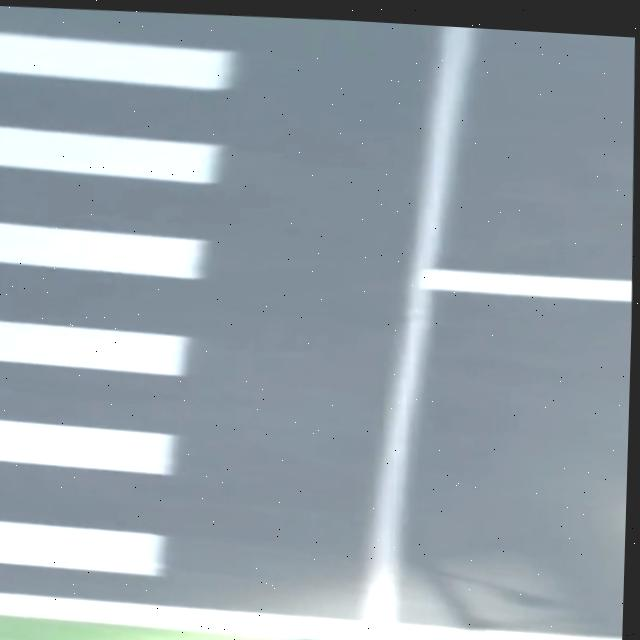center: (418, 267, 632, 300)
right: (0, 592, 622, 640)
